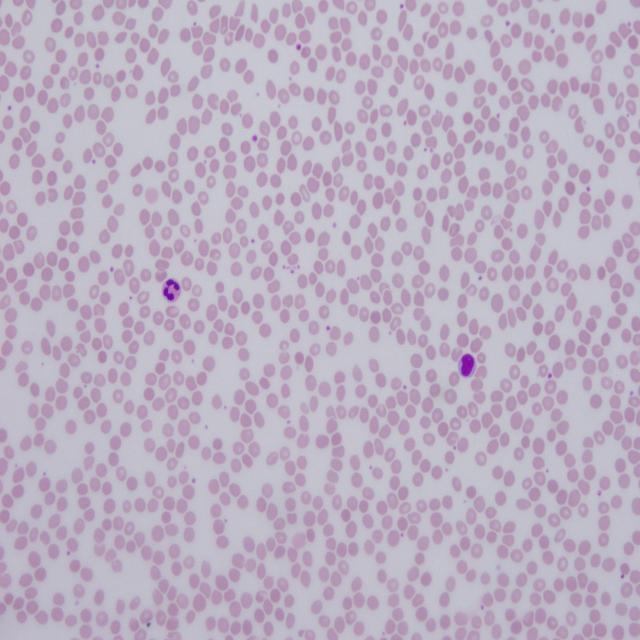cell: (162, 279, 181, 301)
